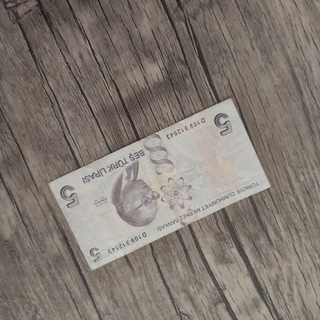5TLBack: (47, 96, 273, 273)
